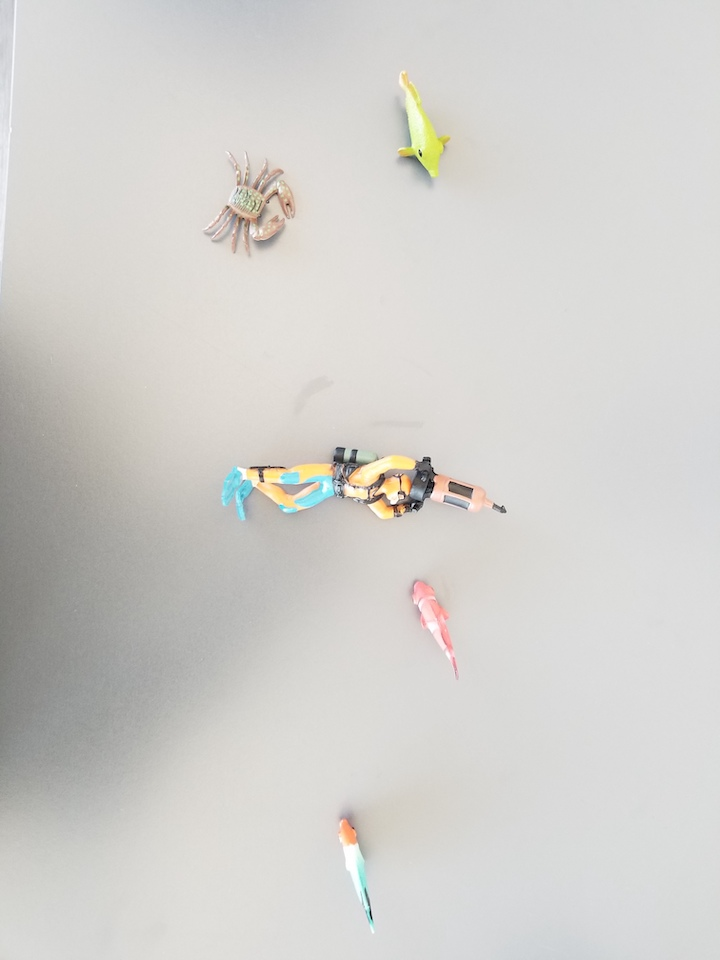crab: (200, 149, 304, 259)
diver: (216, 440, 514, 546)
fish: (392, 67, 454, 183), (330, 814, 382, 932), (407, 577, 465, 682)
